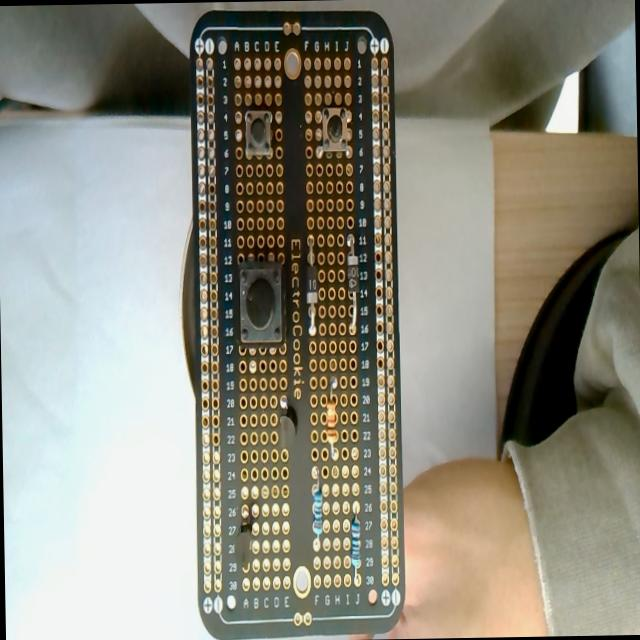diode: (345, 233, 360, 333), (305, 245, 318, 336)
resistor: (320, 375, 340, 459), (310, 468, 324, 534), (349, 516, 361, 574)
switch: (236, 260, 286, 348), (319, 107, 349, 154), (245, 108, 273, 158)
transistor: (274, 396, 304, 456), (237, 514, 254, 569)
